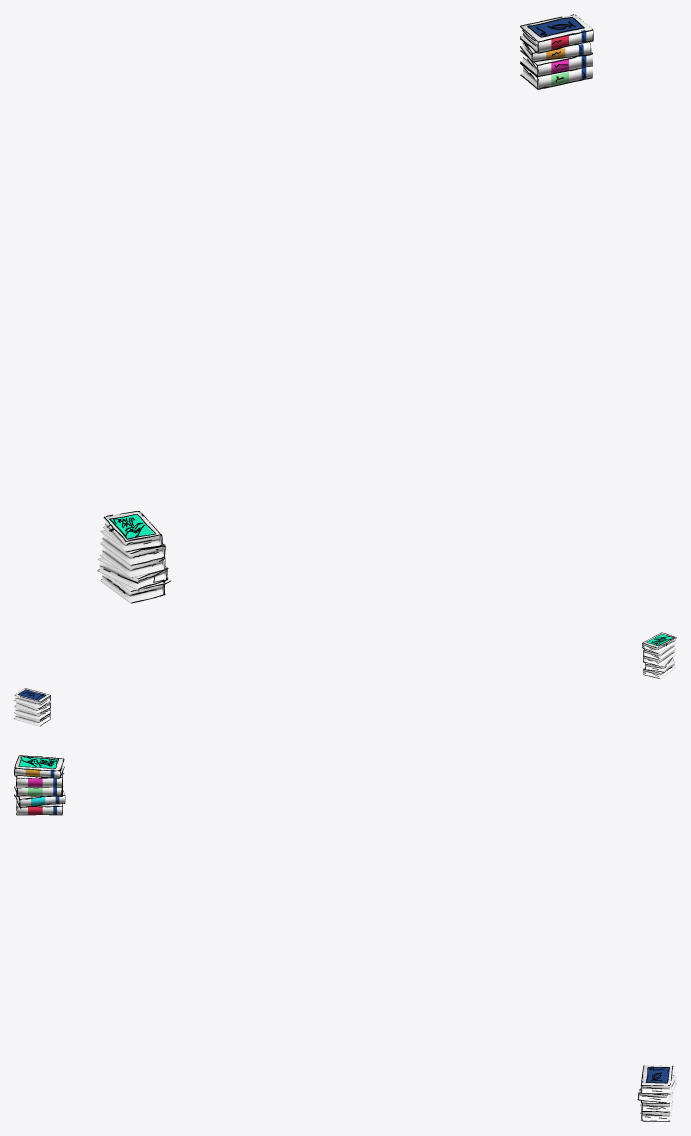
File: manga.glb
3 renders of one model, top to bottom at view 1: azimuth 30°, elevation 25°; view 2: azimuth 150°, elevation 25°; view 3: azimuth 270°, elevation 25°, orthographic. The views are drawn at different scales.
Visible parts, largest first — view 1: MANGA 1, MANGA 2, lines_manga2, lines_manga 1; view 2: MANGA 1, MANGA 2, lines_manga 1, lines_manga2; view 3: MANGA 1, MANGA 2, lines_manga 1, lines_manga2.
Part boxes in pixels (x1,y1,x2,y2): MANGA 1: [97, 511, 167, 603]; MANGA 2: [520, 14, 592, 88]; lines_manga2: [520, 14, 593, 89]; lines_manga 1: [97, 511, 170, 603]; MANGA 1: [642, 633, 676, 678]; MANGA 2: [14, 688, 50, 726]; lines_manga 1: [642, 632, 676, 678]; lines_manga2: [14, 688, 50, 726]; MANGA 1: [14, 755, 64, 814]; MANGA 2: [638, 1065, 676, 1121]; lines_manga 1: [14, 755, 65, 815]; lines_manga2: [637, 1065, 676, 1121].
Size of the model in its own units: 4.03 by 0.2746 by 3.5.
